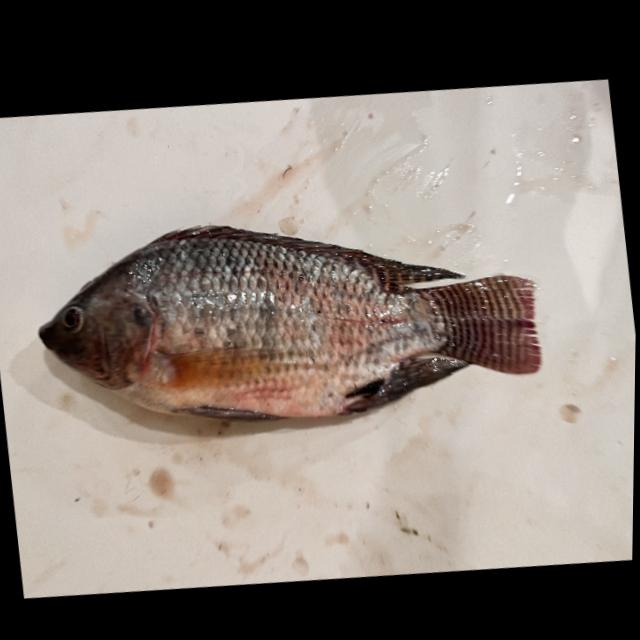Tilapia: (25, 176, 552, 469)
